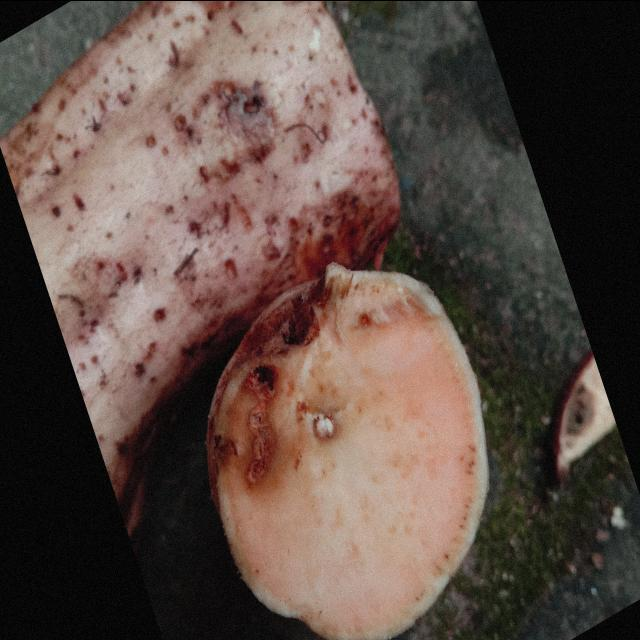Sick Sweet Potato_Tuber Rot: (208, 262, 488, 638)
